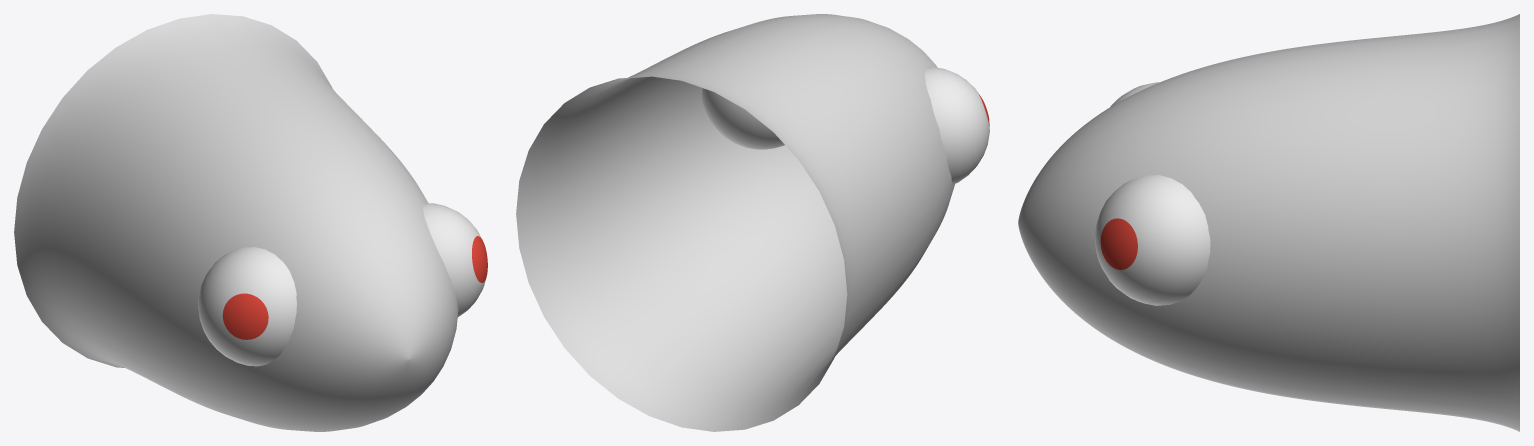
The model's file is head2.glb.
The picture shows the model from 3 angles, left to right: view 1: azimuth 30°, elevation 25°; view 2: azimuth 150°, elevation 25°; view 3: azimuth 270°, elevation 25°; orthographic projection. The views are drawn at different scales.
Visible parts, largest first — view 1: Head2; view 2: Head2; view 3: Head2.
Boxes of the visible parts, left/top/right/bottom form: Head2: left=14, top=14, right=487, bottom=431; Head2: left=516, top=14, right=989, bottom=431; Head2: left=1018, top=14, right=1519, bottom=431.
Bounding box in the file's own units: 2.5 × 2.5 × 3.
